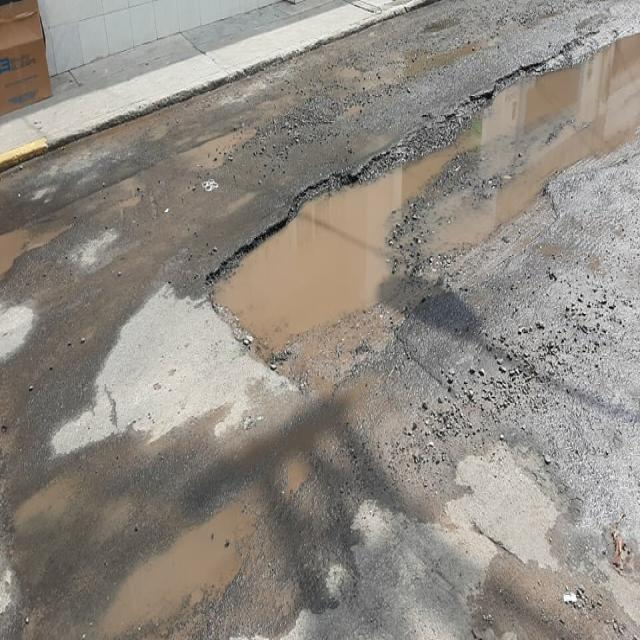pothole: (194, 158, 431, 465), (446, 11, 628, 308)
